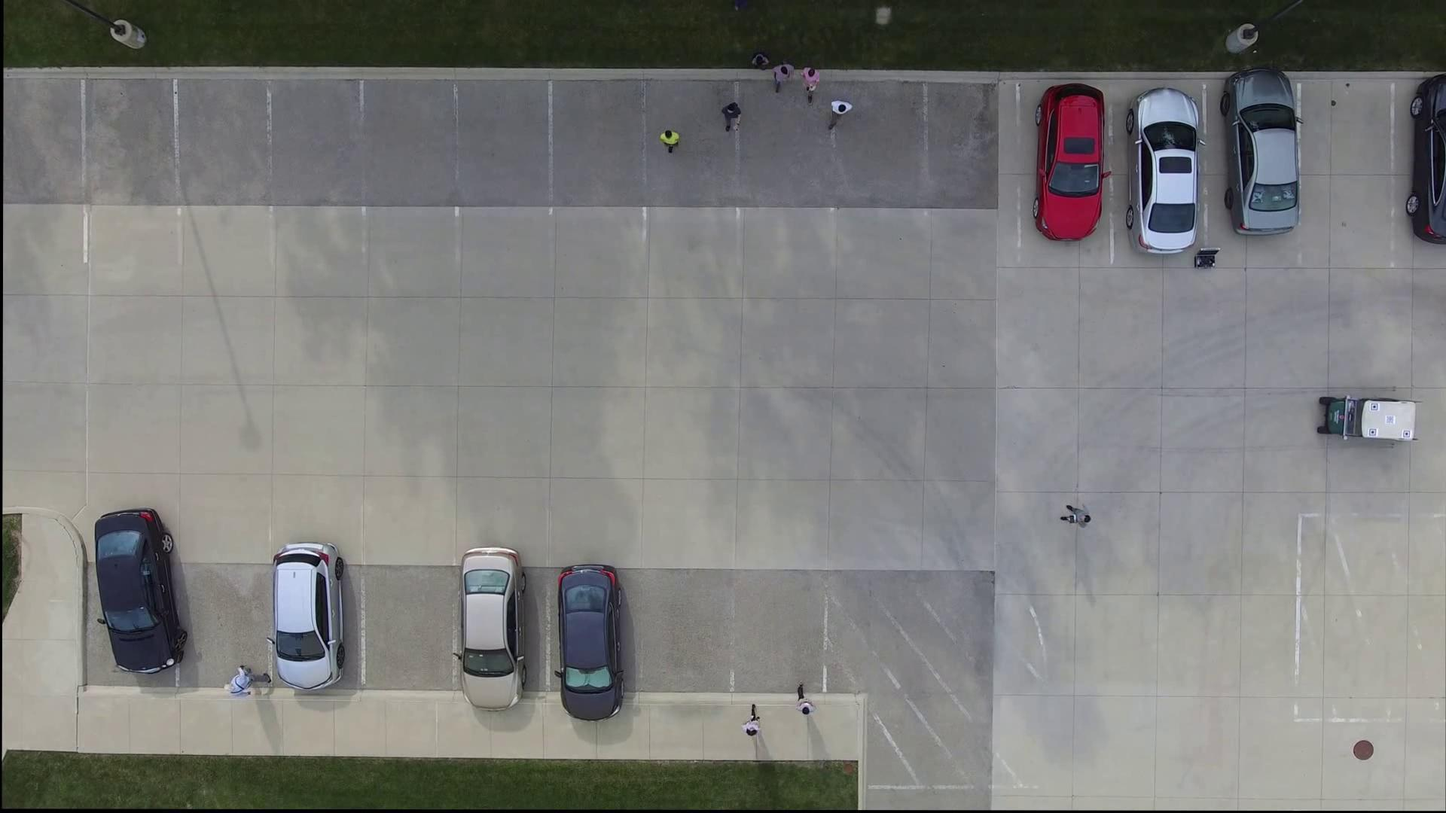person: (209, 650, 281, 710), (825, 93, 858, 135), (795, 680, 824, 727), (1057, 498, 1097, 532), (729, 702, 766, 736), (658, 124, 682, 163), (800, 62, 825, 98), (746, 49, 775, 78), (727, 98, 745, 144), (770, 58, 795, 88)
